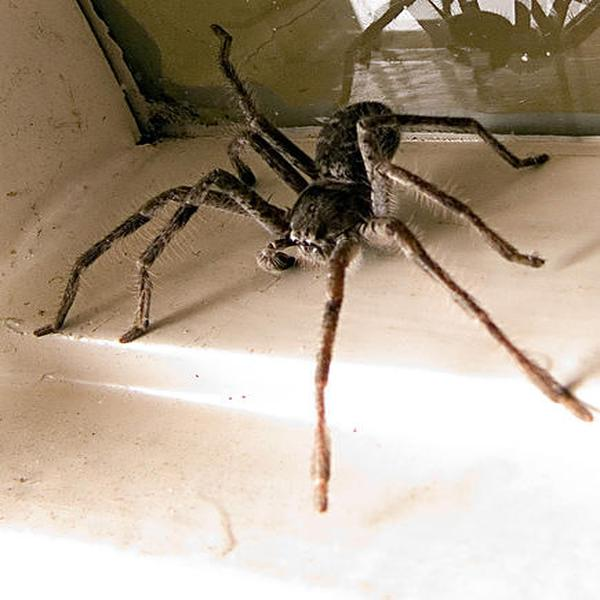Huntsman Spider: (38, 24, 593, 509)
